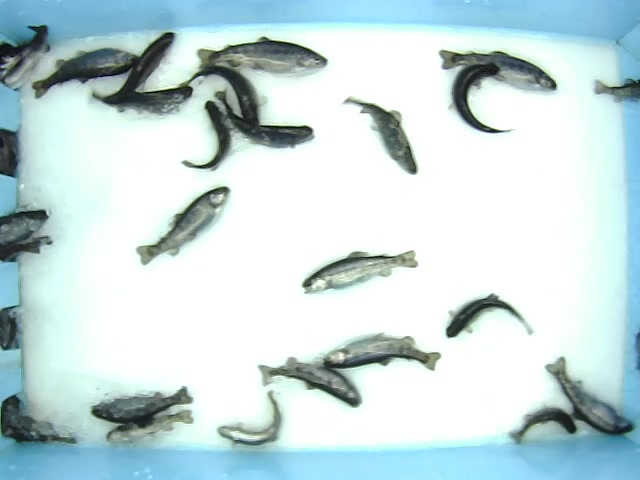fish: (136, 185, 231, 266), (543, 356, 635, 437), (214, 86, 315, 149), (341, 95, 418, 176), (91, 31, 177, 103), (31, 46, 141, 100), (257, 355, 363, 409), (196, 36, 329, 79), (438, 46, 558, 93), (301, 248, 418, 295), (178, 64, 262, 128), (447, 61, 515, 134), (322, 332, 442, 371), (444, 292, 536, 340), (90, 385, 195, 425), (216, 389, 282, 448), (181, 98, 232, 171), (91, 86, 194, 118), (104, 408, 195, 444), (508, 406, 577, 444)
